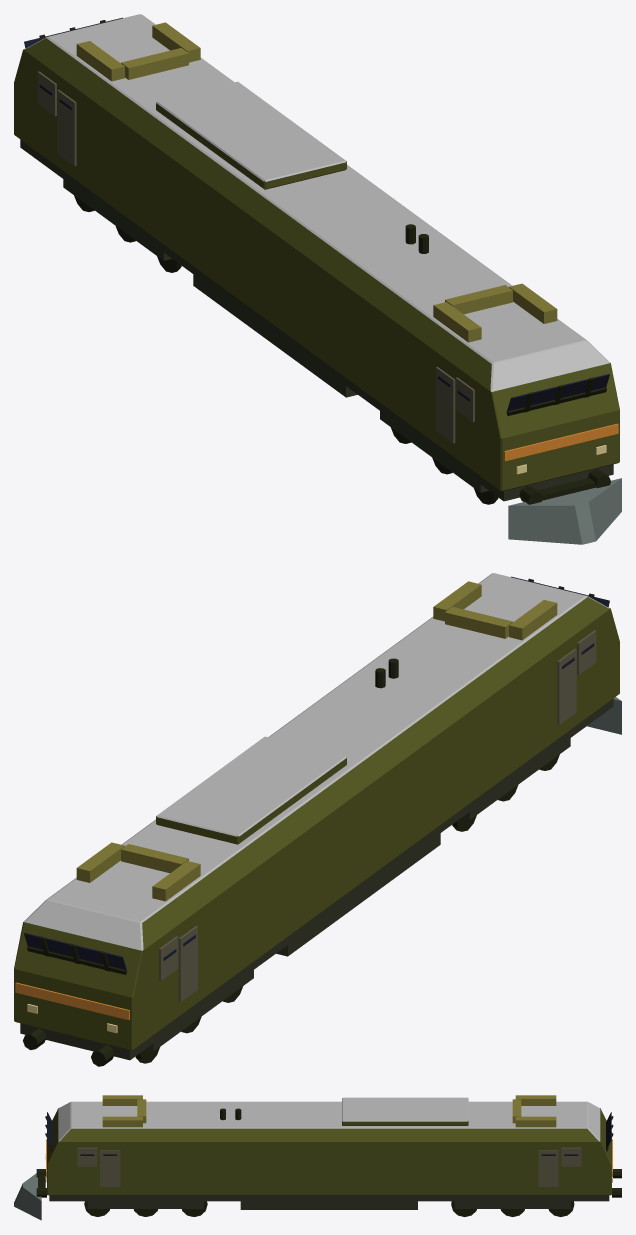
Rendered from SM_R1_Locomotora_LOD1.fbx.
3 views of the same model, one above another, from view 1: azimuth 30°, elevation 25°; view 2: azimuth 150°, elevation 25°; view 3: azimuth 270°, elevation 25° (orthographic). The views are drawn at different scales.
Visible parts, largest first — view 1: SM_R1_Locomotora_LOD1; view 2: SM_R1_Locomotora_LOD1; view 3: SM_R1_Locomotora_LOD1.
Boxes of the visible parts, x1,y1,x2,y2 form: SM_R1_Locomotora_LOD1: (14, 14, 621, 544); SM_R1_Locomotora_LOD1: (14, 573, 621, 1066); SM_R1_Locomotora_LOD1: (14, 1095, 621, 1220).
Bounding box in the file's own units: 3.29 × 4.45 × 24.03.
